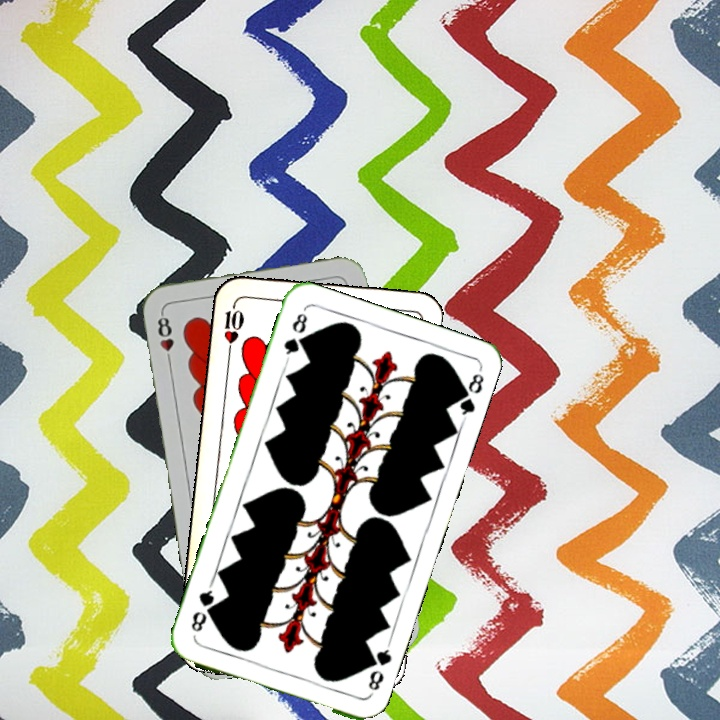G8: (362, 641, 395, 693), (280, 309, 310, 364)
H10: (219, 298, 247, 357)
H8: (153, 308, 177, 367)
